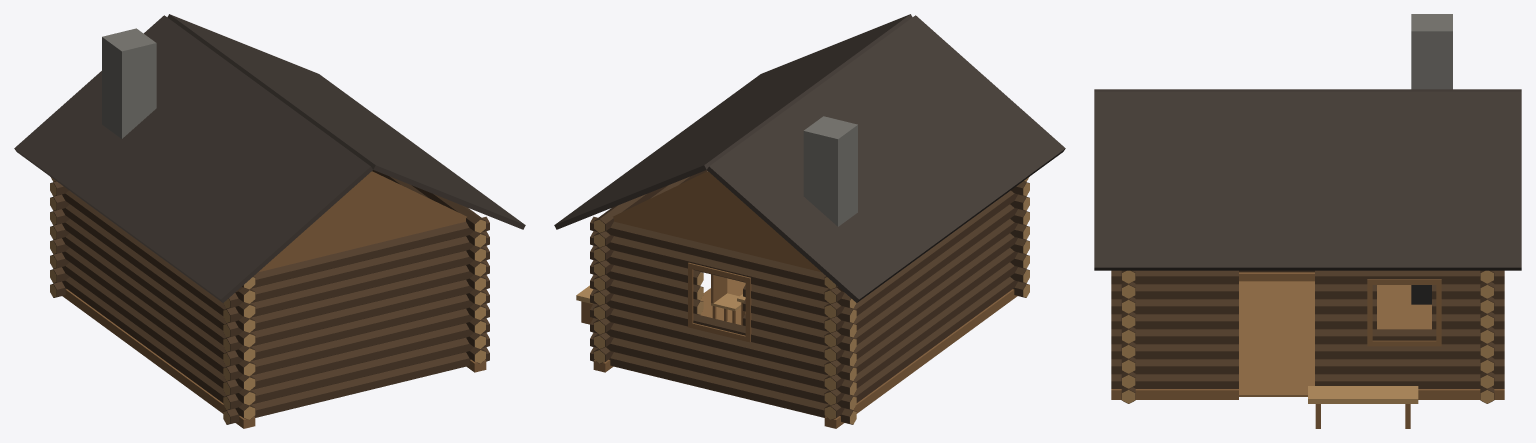
File: les_paseka_srub_interier.glb
3 renders of one model, left to right at view 1: azimuth 30°, elevation 25°; view 2: azimuth 150°, elevation 25°; view 3: azimuth 270°, elevation 25°, orthographic. The views are drawn at different scales.
Visible parts, largest first — view 1: srub; view 2: srub, nabytek, podlaha; view 3: srub, podlaha, nabytek.
Part boxes in pixels (x1,y1,x2,y2): srub: (14,14,525,428); srub: (554,14,1065,428); nabytek: (711,274,745,325); podlaha: (700,278,745,324); srub: (1094,14,1521,428); podlaha: (1239,281,1431,396); nabytek: (1411,285,1431,304).
Bounding box in the file's own units: 5.77 × 4.4 × 6.2.
1 material, 1 textured.
